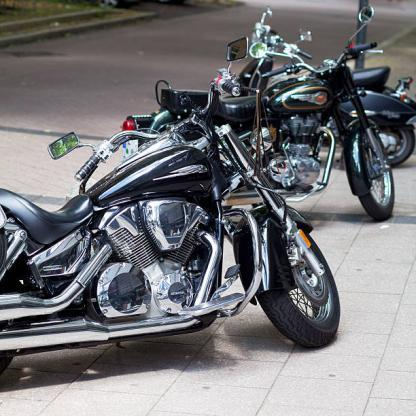Motorcycle: (0, 104, 349, 359)
